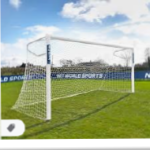goals: (15, 32, 138, 122)
